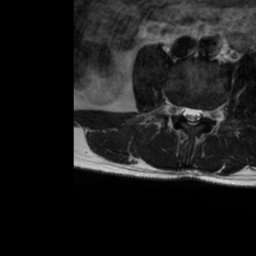CCS_normal: (189, 99, 196, 131)
LFS_normal: (203, 101, 211, 124)
LLS_normal: (196, 100, 203, 127)
RFS_normal: (174, 98, 182, 123)
RLS_normal: (182, 99, 189, 124)
